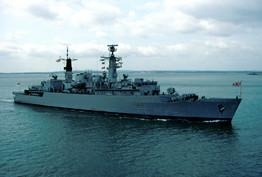warship: (10, 40, 246, 120)
